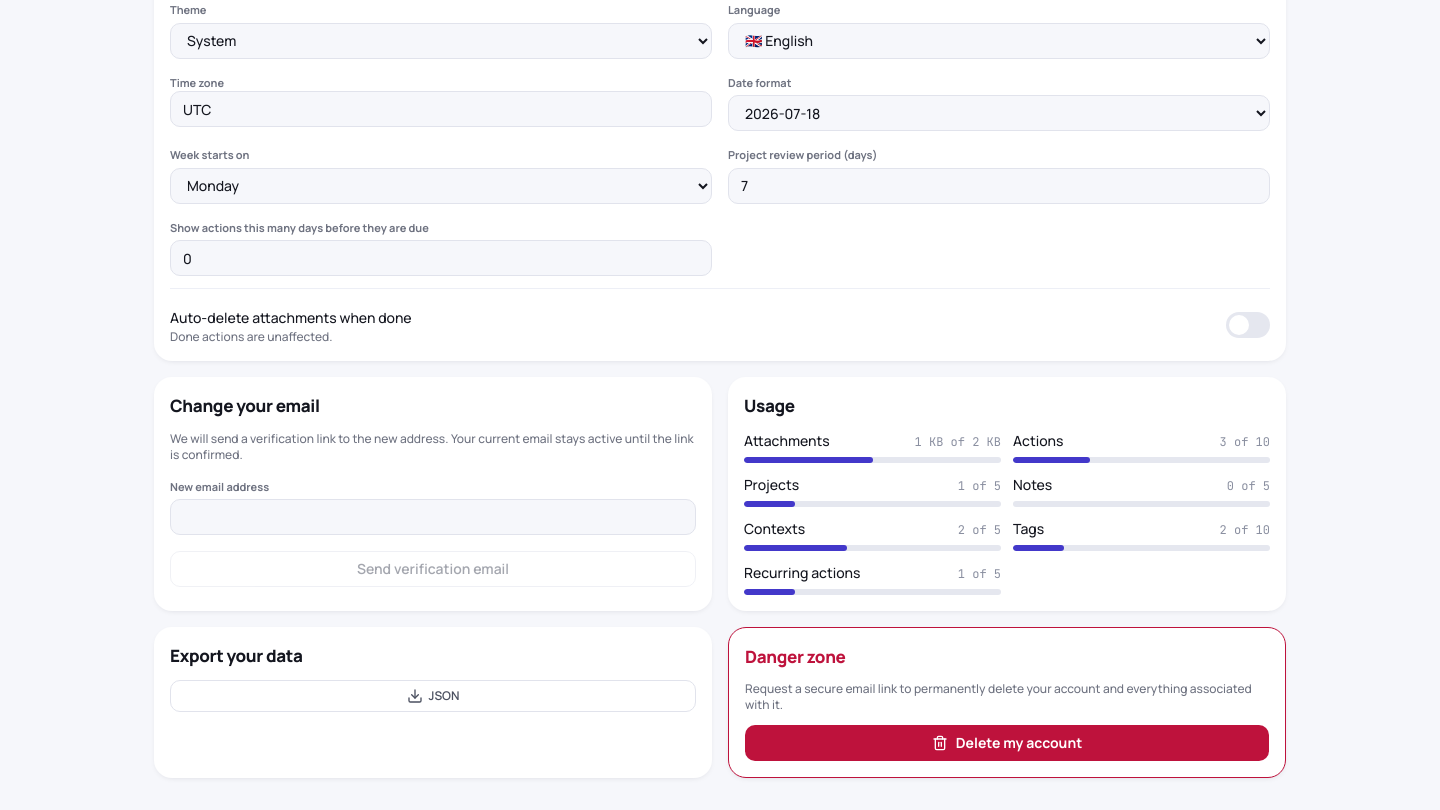
Test: SettingsPage usage pane › puts irreversible account deletion last and confirms before emailing
(page scrolled)
Click the button "Delete my account". click: (1007, 743)
box: [745,725,1269,761]
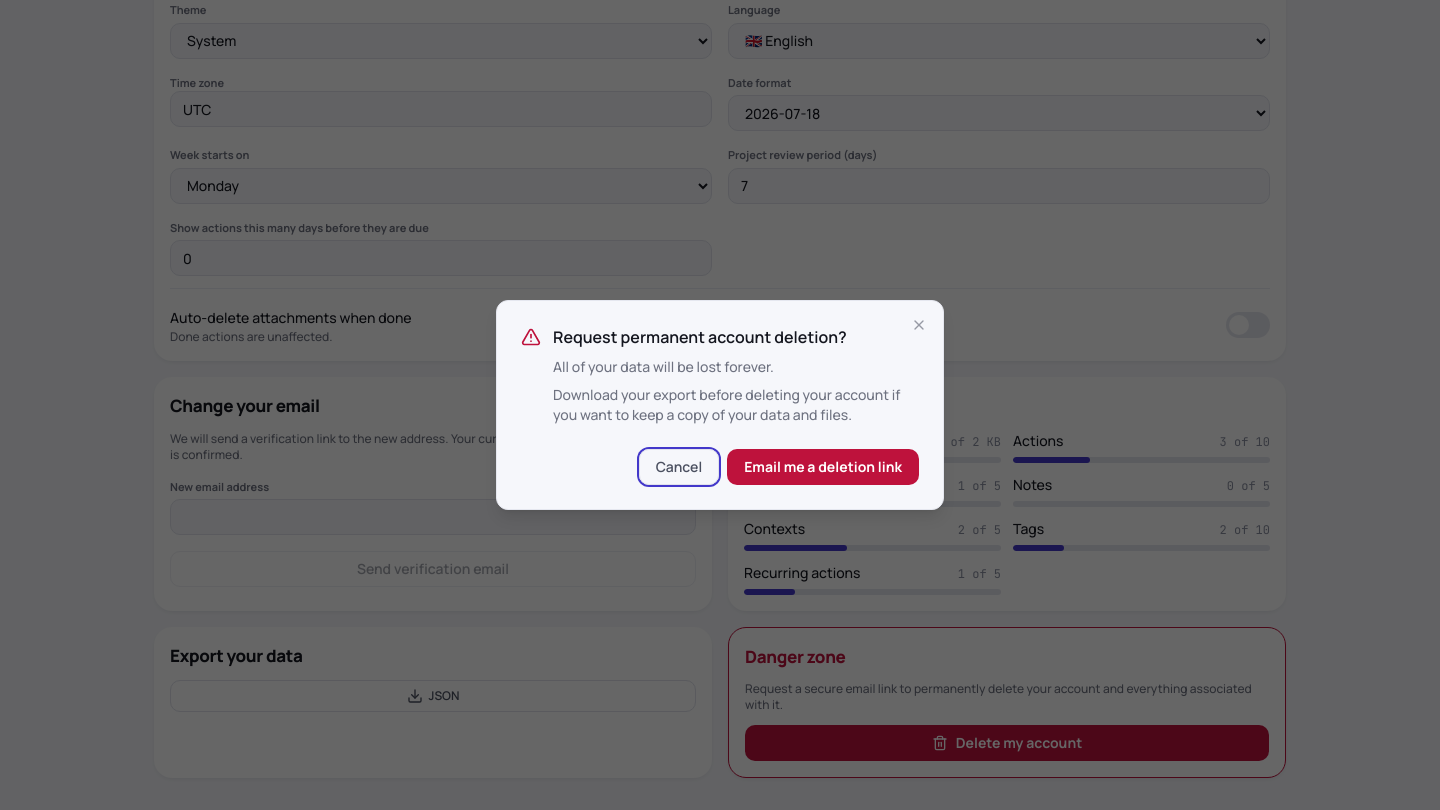
expect the text "All of your data will be lost forever." is shown: met, box [553,357,774,376]
expect the text "Download your export before deleting your account if you want to keep a copy of your data and files." is shown: met, box [553,385,900,424]
expect the button "Email me a deletion link" is shown: met, box [727,449,919,485]
